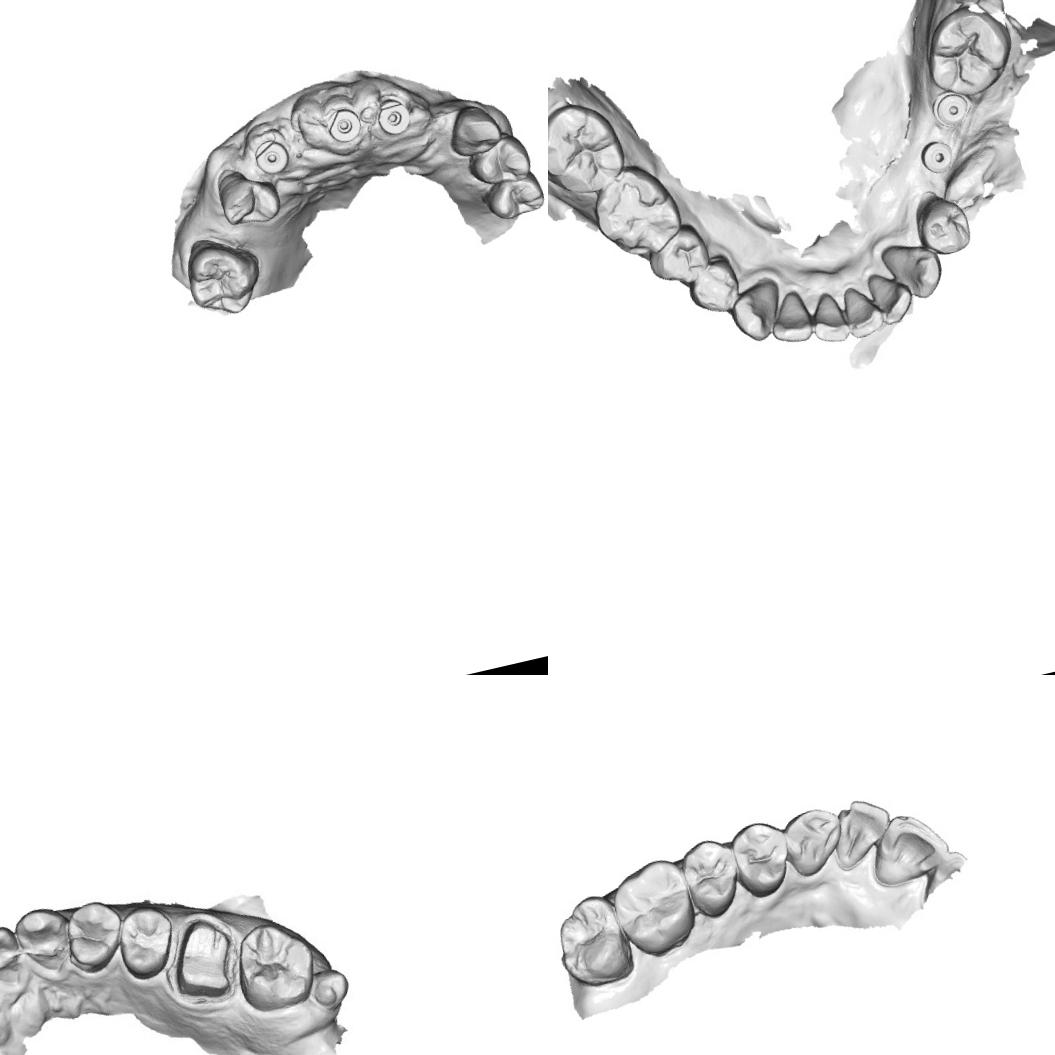canine: (778, 802, 852, 882), (879, 235, 946, 306), (725, 274, 791, 346), (440, 94, 506, 162), (16, 904, 74, 969)
crown: (164, 914, 238, 995)
implant: (320, 99, 368, 147), (928, 84, 974, 134), (371, 92, 414, 141), (250, 134, 294, 179), (916, 133, 959, 177)
incisor: (862, 804, 954, 892), (822, 792, 902, 875), (762, 285, 819, 350), (835, 280, 890, 343), (868, 268, 917, 327), (806, 290, 854, 348), (0, 924, 30, 987)
molar: (584, 156, 688, 266), (604, 852, 702, 964), (915, 0, 1017, 104), (230, 914, 326, 1017), (548, 888, 636, 994), (548, 93, 631, 204), (178, 230, 270, 325)
premolar: (60, 891, 132, 979), (676, 835, 747, 923), (109, 901, 183, 984), (726, 816, 795, 903), (210, 157, 286, 233), (913, 190, 975, 261), (644, 223, 711, 288), (485, 167, 548, 231), (461, 133, 533, 188), (684, 256, 746, 317)
